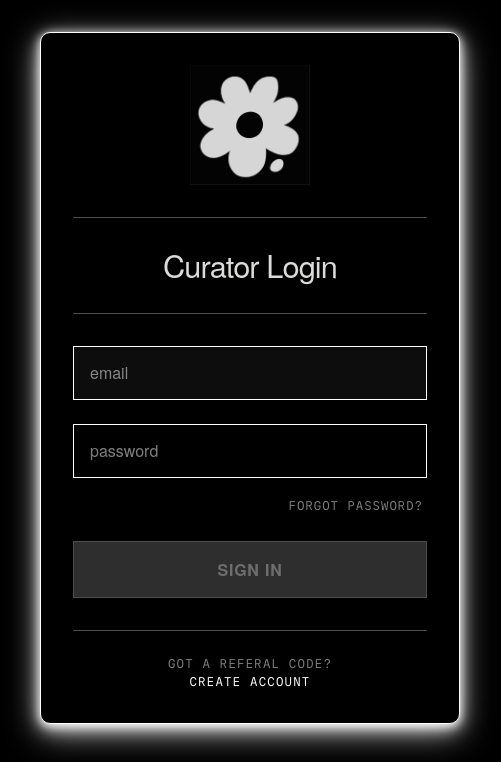
Test: CuratorLogin › Form validation › should enable submit button when both fields have values
Step 1. Type "test@example.com" into the field labelled "email" → [250, 372], box [73,346,427,400]
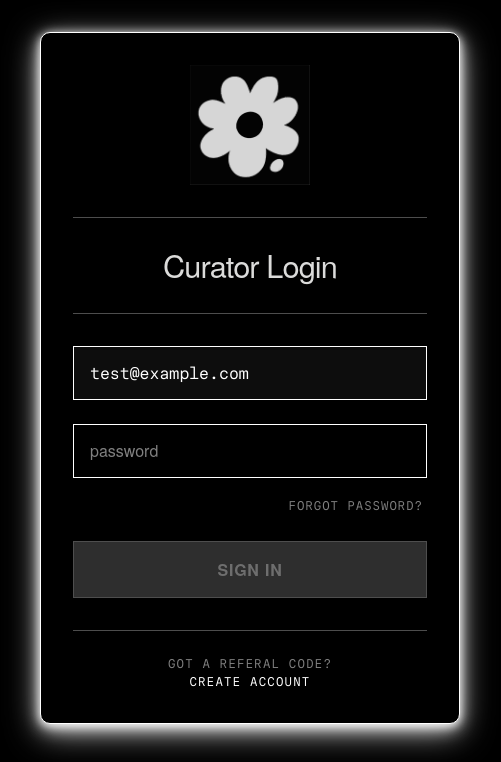
Step 2. Type "password123" into the password field labelled "password" → [250, 450], box [73,424,427,478]
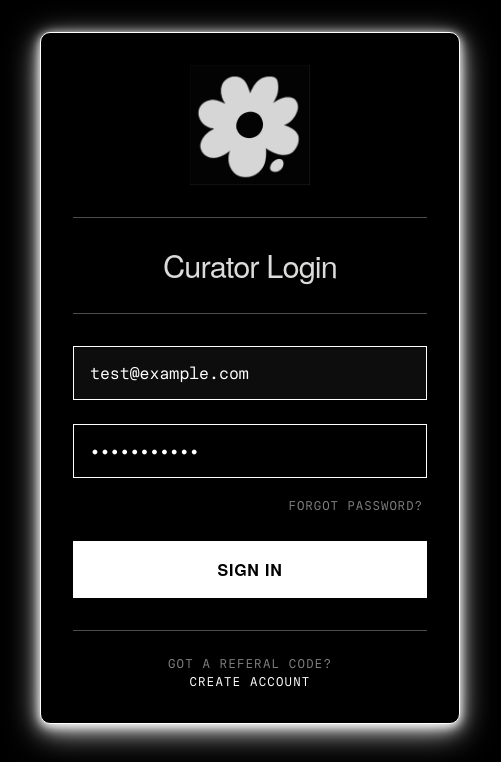
Now the button "Sign In" is enabled, box [73,540,427,598]
